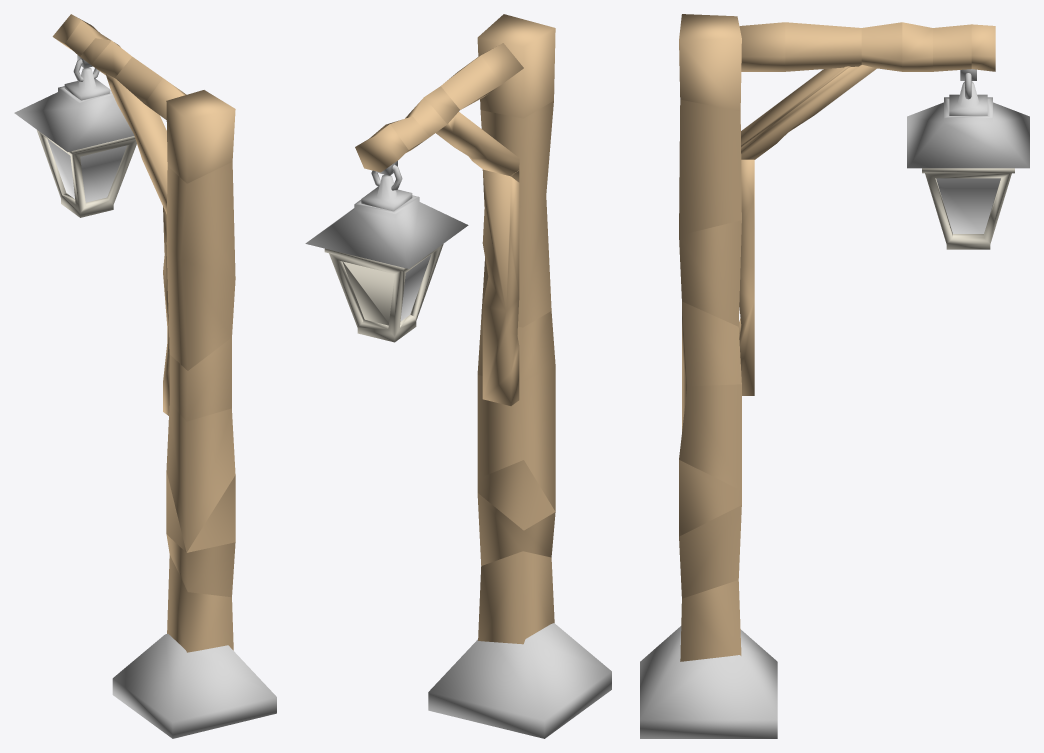
The model's file is Lamp.fbx.
3 renders of one model, left to right at view 1: azimuth 30°, elevation 25°; view 2: azimuth 150°, elevation 25°; view 3: azimuth 270°, elevation 25°, orthographic. The views are drawn at different scales.
Visible parts, largest first — view 1: Stolb6_1, Group7, Group5, Group6, Group2, Group3, Group_20_1; view 2: Stolb6_1, Group7, Group_20_1, Group5, Group2, Group6, Group3; view 3: Stolb6_1, Group7, Group2, Group5, Group6, Group3, Group_20_1.
Boxes of the visible parts, x1,y1,x2,y2 form: Stolb6_1: (166, 90, 235, 652); Group7: (112, 634, 276, 738); Group5: (14, 67, 134, 151); Group6: (37, 130, 136, 217); Group2: (52, 14, 186, 119); Group3: (105, 74, 167, 214); Group_20_1: (163, 206, 169, 415); Stolb6_1: (477, 14, 555, 644); Group7: (428, 623, 611, 738); Group_20_1: (482, 169, 519, 405); Group5: (305, 174, 468, 268); Group2: (355, 43, 523, 172); Group6: (324, 244, 443, 342); Group3: (436, 112, 519, 182); Stolb6_1: (679, 14, 741, 661); Group7: (640, 626, 777, 738); Group2: (739, 22, 995, 71); Group5: (907, 81, 1029, 168); Group6: (922, 168, 1014, 249); Group3: (741, 65, 876, 159); Group_20_1: (738, 159, 754, 395).
Bounding box in the file's own units: 329 × 1810 × 929.
